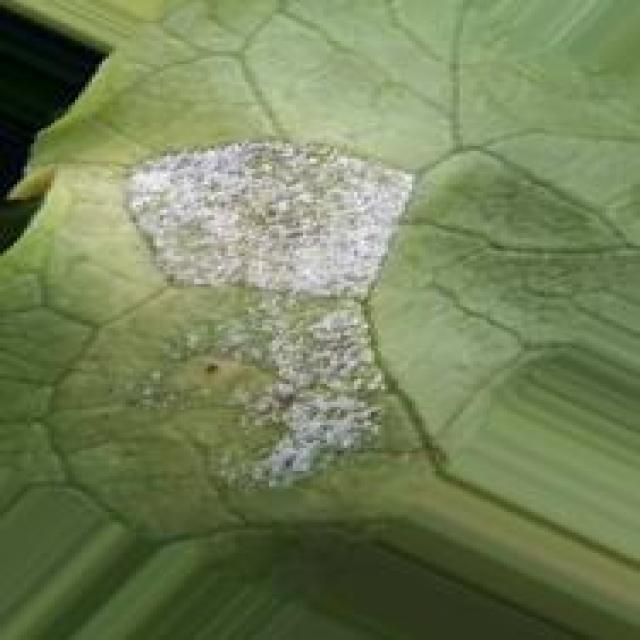Bad: (125, 140, 413, 489)
